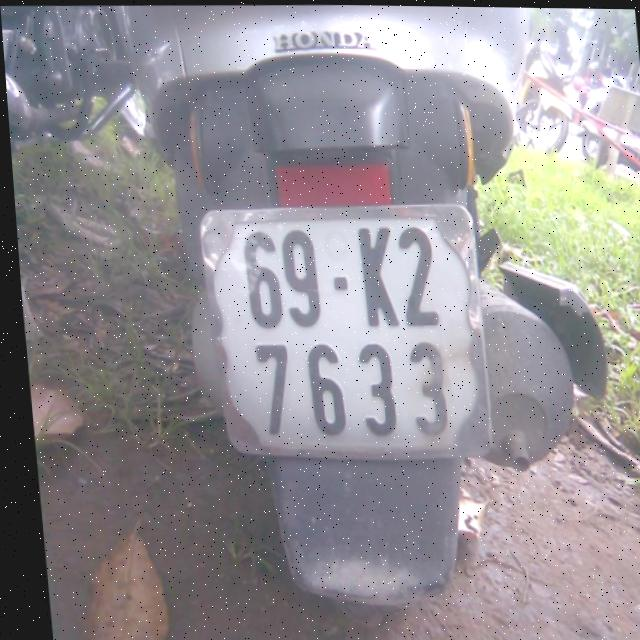motorcycle: (110, 2, 638, 617)
plate: (195, 201, 499, 466)
